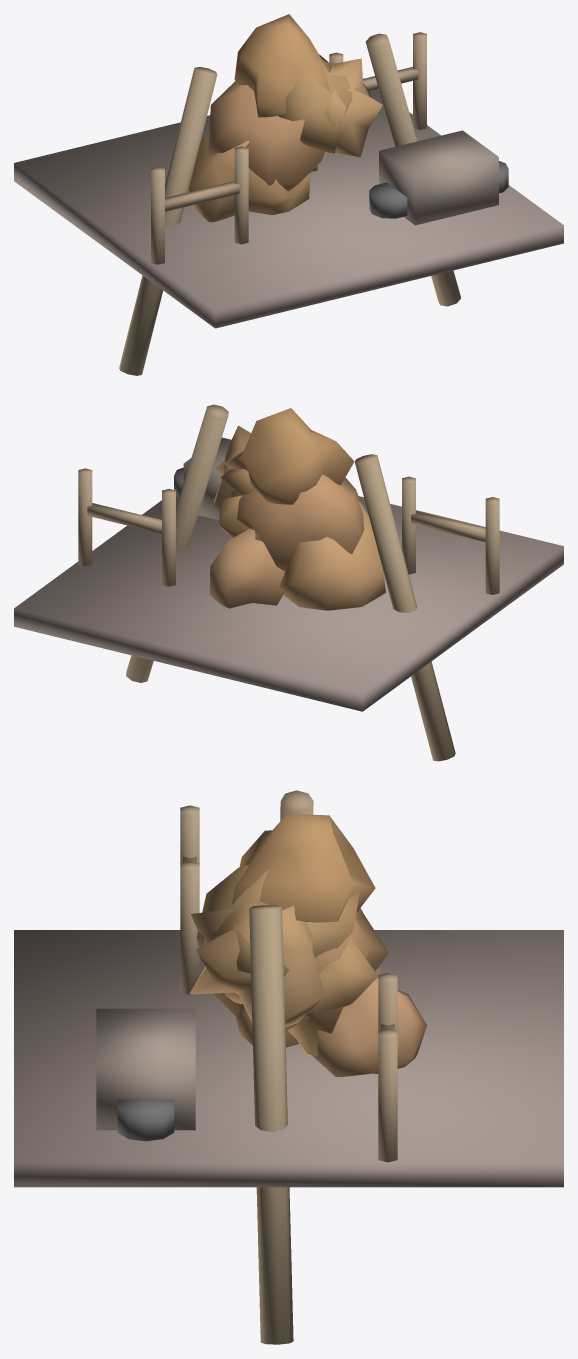
File: ore_copper_medium.glb
The picture shows the model from 3 angles, top to bottom: view 1: azimuth 30°, elevation 25°; view 2: azimuth 150°, elevation 25°; view 3: azimuth 270°, elevation 25°; orthographic projection. The views are drawn at different scales.
Parts seen in each view (by area): view 1: ore_base, cart_body, ore2, strut1, ore6, ore1, ore5, strut0, ore4, fpost-0.360.12, fpost-0.36-0.12, fpost0.36-0.12 (+2 smaller); view 2: ore_base, ore6, ore2, ore1, strut1, ore0, strut0, fpost-0.36-0.12, fpost0.36-0.12, fpost0.360.12, fpost-0.360.12, cart_body (+5 smaller); view 3: ore_base, strut0, cart_body, ore6, ore4, ore0, ore5, ore3, fpost0.36-0.12, fpost-0.360.12, ore2, cart_wheel1 (+4 smaller).
Boxes of the visible parts, bbox=[...] form: ore_base: bbox=[14, 78, 563, 328]; cart_body: bbox=[379, 130, 498, 225]; ore2: bbox=[207, 81, 324, 191]; strut1: bbox=[119, 67, 217, 375]; ore6: bbox=[234, 14, 331, 117]; ore1: bbox=[188, 134, 310, 222]; ore5: bbox=[278, 56, 371, 153]; strut0: bbox=[365, 33, 460, 306]; ore4: bbox=[323, 58, 382, 157]; fpost-0.360.12: bbox=[234, 146, 248, 244]; fpost-0.36-0.12: bbox=[151, 167, 164, 264]; fpost0.36-0.12: bbox=[413, 32, 426, 129]; ore_base: bbox=[14, 496, 563, 711]; ore6: bbox=[224, 408, 354, 504]; ore2: bbox=[230, 474, 364, 570]; ore1: bbox=[279, 502, 385, 610]; strut1: bbox=[355, 454, 455, 761]; ore0: bbox=[209, 528, 284, 608]; strut0: bbox=[126, 404, 228, 682]; fpost-0.36-0.12: bbox=[485, 497, 499, 594]; fpost0.36-0.12: bbox=[78, 468, 92, 566]; fpost0.360.12: bbox=[162, 489, 175, 586]; fpost-0.360.12: bbox=[402, 476, 415, 574]; cart_body: bbox=[183, 437, 231, 519]; ore_base: bbox=[14, 930, 563, 1187]; strut0: bbox=[249, 905, 293, 1344]; cart_body: bbox=[96, 1008, 195, 1130]; ore6: bbox=[231, 813, 375, 922]; ore4: bbox=[189, 901, 325, 1027]; ore0: bbox=[297, 978, 426, 1076]; ore5: bbox=[196, 864, 359, 1030]; ore3: bbox=[287, 937, 378, 1056]; fpost0.36-0.12: bbox=[378, 1028, 397, 1162]; fpost-0.360.12: bbox=[180, 861, 199, 994]; ore2: bbox=[225, 908, 388, 1033]; cart_wheel1: bbox=[117, 1099, 174, 1141].
Size of the model in its own units: 20 by 17.14 by 20.
